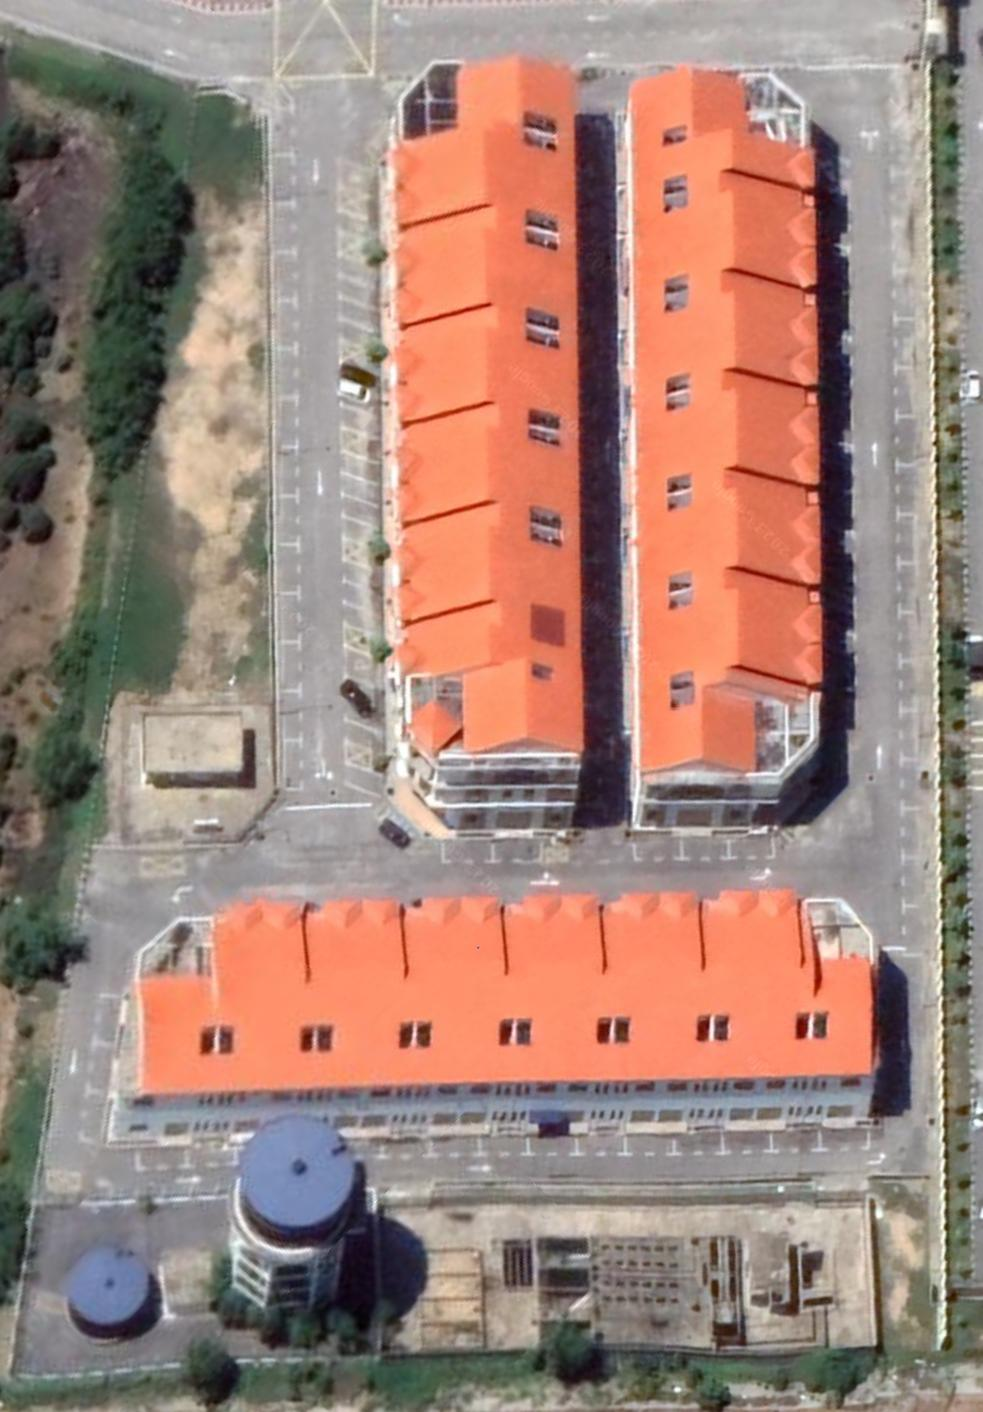building: (381, 611, 591, 775), (381, 312, 586, 443), (630, 658, 833, 790), (618, 56, 821, 188), (629, 557, 830, 688), (383, 414, 588, 542), (381, 509, 588, 634), (627, 459, 835, 583), (625, 361, 830, 484), (383, 214, 586, 336), (621, 262, 824, 383), (623, 165, 823, 288), (207, 888, 316, 1104), (605, 880, 716, 1091), (378, 127, 586, 238), (707, 879, 817, 1087), (409, 885, 515, 1099), (309, 887, 413, 1102), (510, 883, 612, 1092), (449, 45, 585, 142), (130, 967, 221, 1103), (809, 947, 881, 1087)
